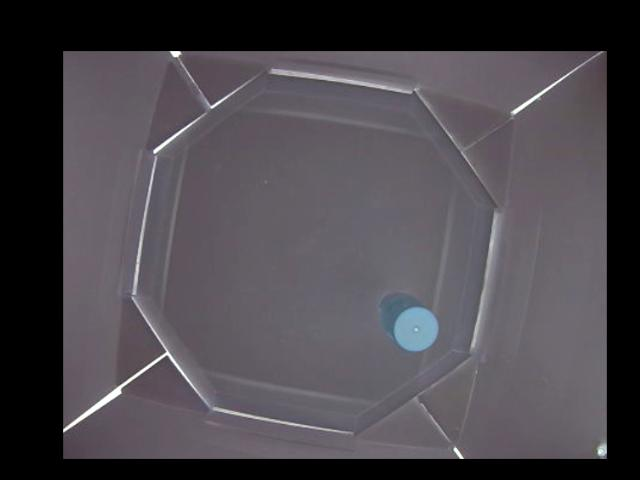Bottle: (379, 292, 438, 353)
